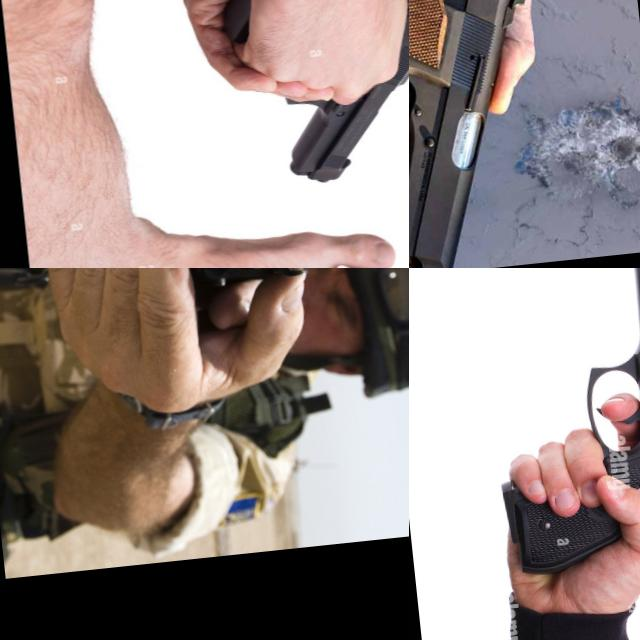handgun: (466, 268, 640, 584), (409, 0, 571, 268), (208, 0, 409, 199), (157, 268, 398, 342)
